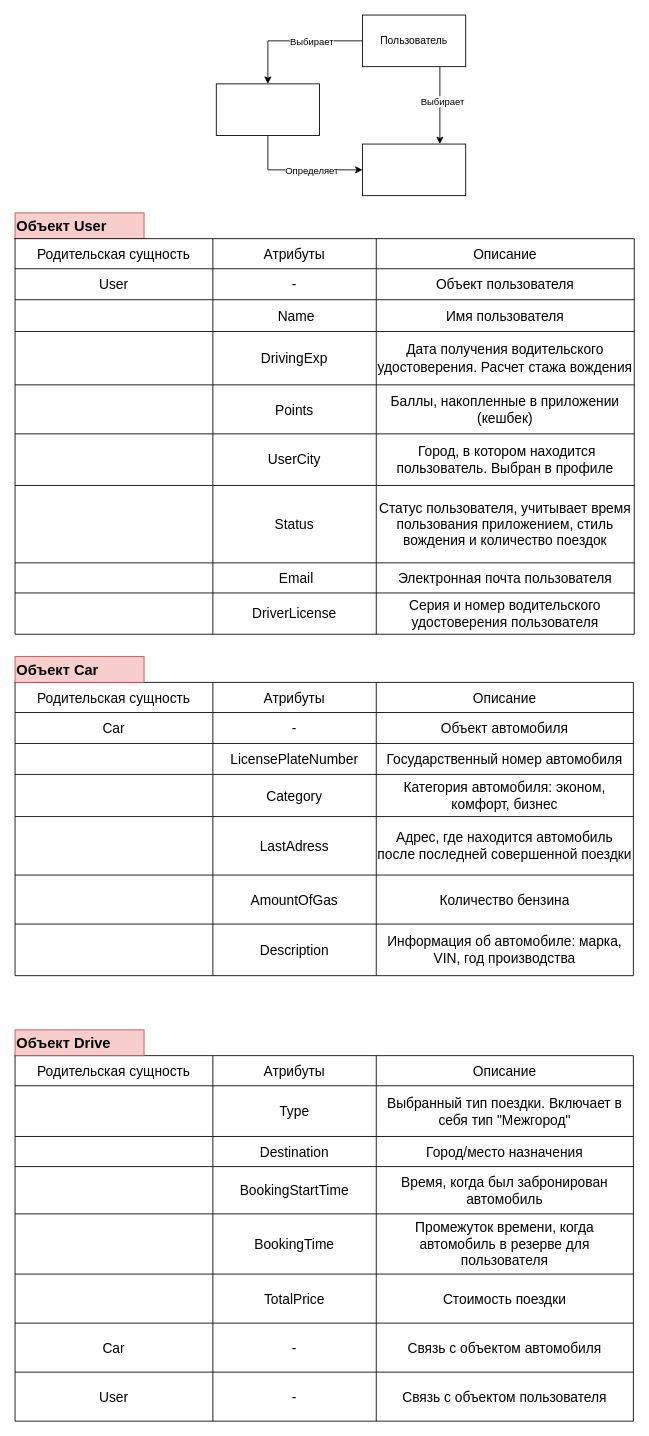
This 649x1436 diagram has some shape labels left out. The shapes that lost their labels are listed below. From the top down, each one's centre as x and y in pixels, then its label:
(267,109): Автомобиль
(414,169): Поездка
